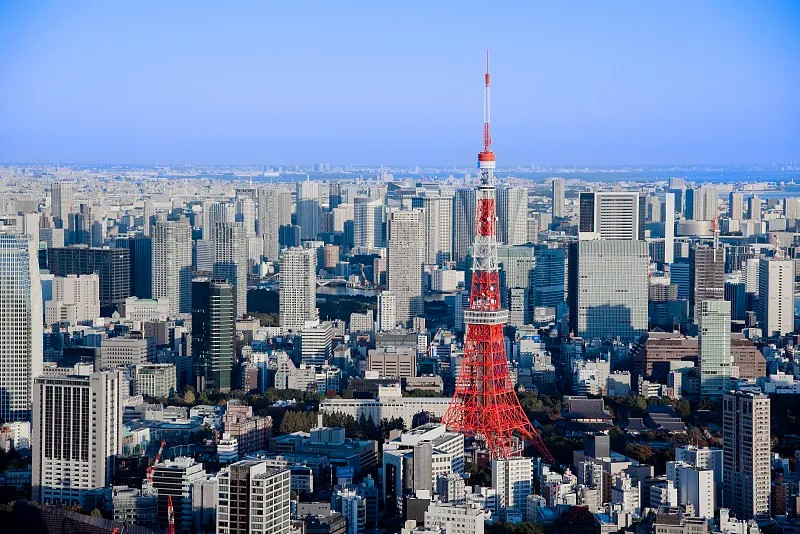Tokyo: (442, 47, 555, 463)
